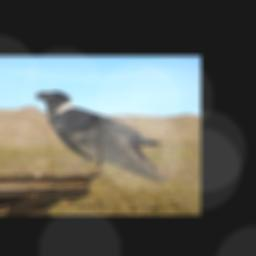Crow: (33, 87, 167, 184)
